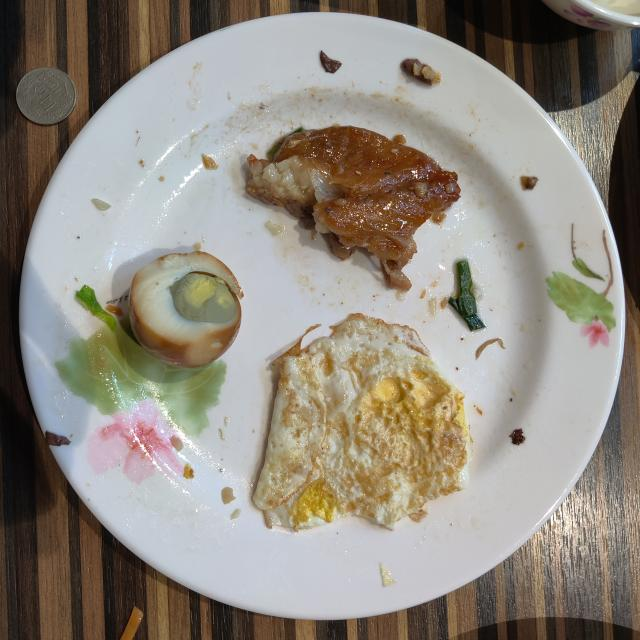Kabayaki sea bream fillet: (246, 126, 460, 289)
coin: (16, 68, 76, 124)
soy egg: (130, 251, 244, 368)
